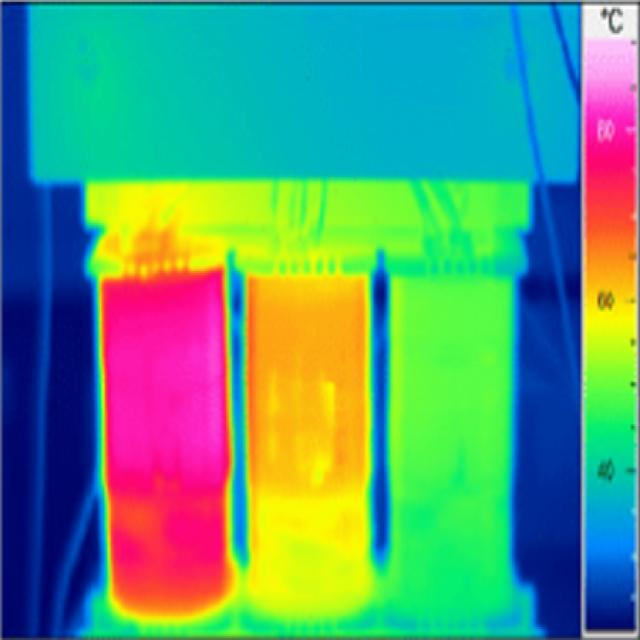Transformer: (4, 7, 545, 631)
